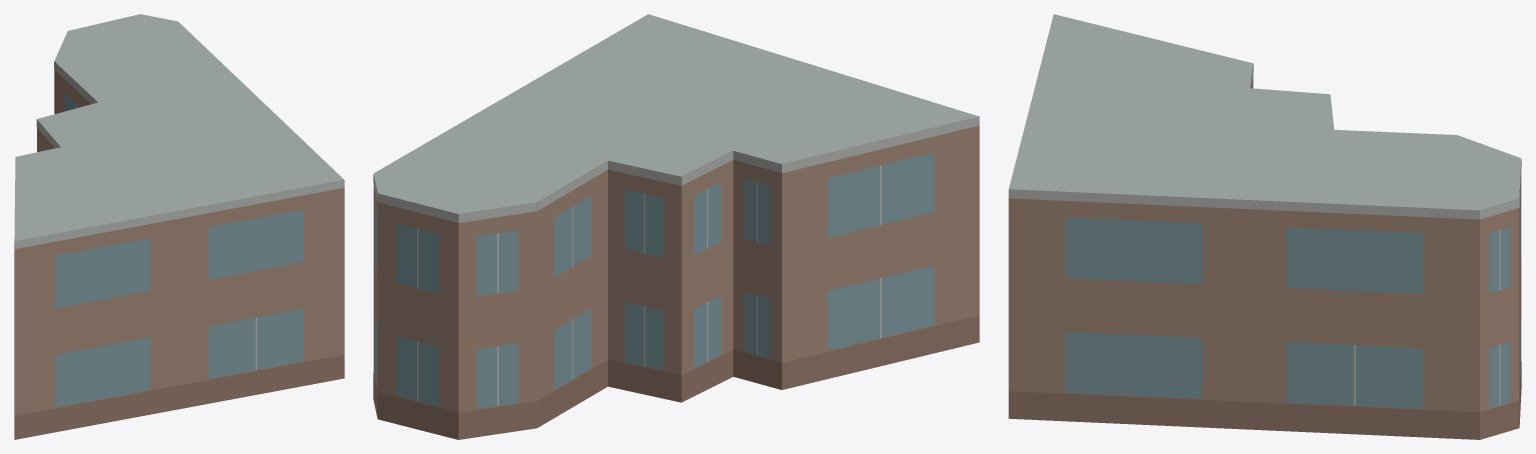
File: survey-upis-32736441.glb
The picture shows the model from 3 angles, left to right: view 1: azimuth 30°, elevation 25°; view 2: azimuth 150°, elevation 25°; view 3: azimuth 270°, elevation 25°; orthographic projection. The views are drawn at different scales.
Parts seen in each view (by area): view 1: survey-upis-32736441.tmp; view 2: survey-upis-32736441.tmp; view 3: survey-upis-32736441.tmp.
Boxes of the visible parts, left/top/right/bottom form: survey-upis-32736441.tmp: left=14, top=14, right=344, bottom=439; survey-upis-32736441.tmp: left=373, top=14, right=979, bottom=439; survey-upis-32736441.tmp: left=1008, top=14, right=1521, bottom=439.
Size of the model in its own units: 11.21 by 6.1 by 12.37.
